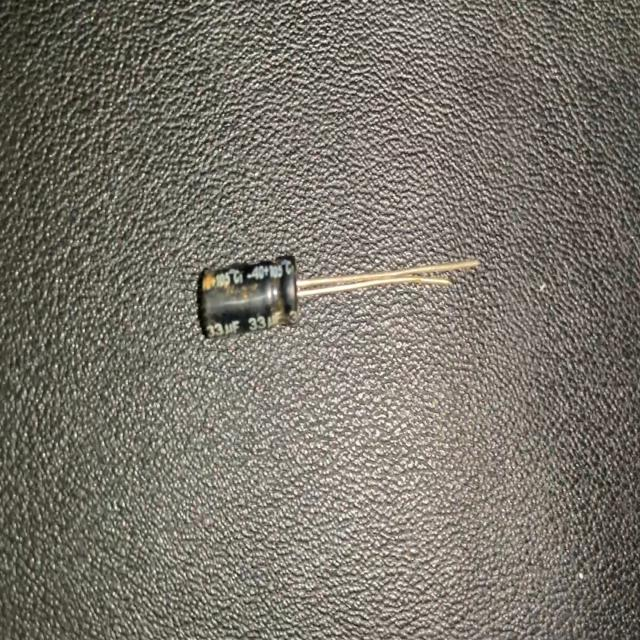capacitor: (195, 243, 482, 345)
rust: (227, 272, 269, 337), (262, 264, 292, 336), (198, 259, 224, 301)
